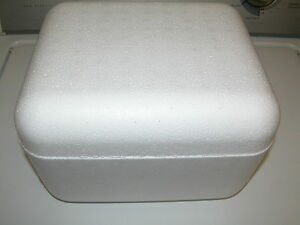Foam Box: (11, 1, 282, 204)
